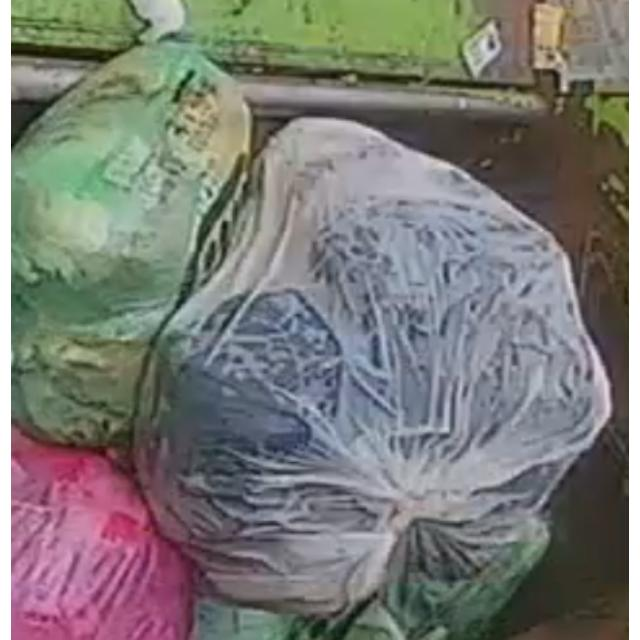general_trashbag: (12, 45, 250, 446)
other_trashbag: (135, 119, 610, 640), (12, 428, 192, 639)
